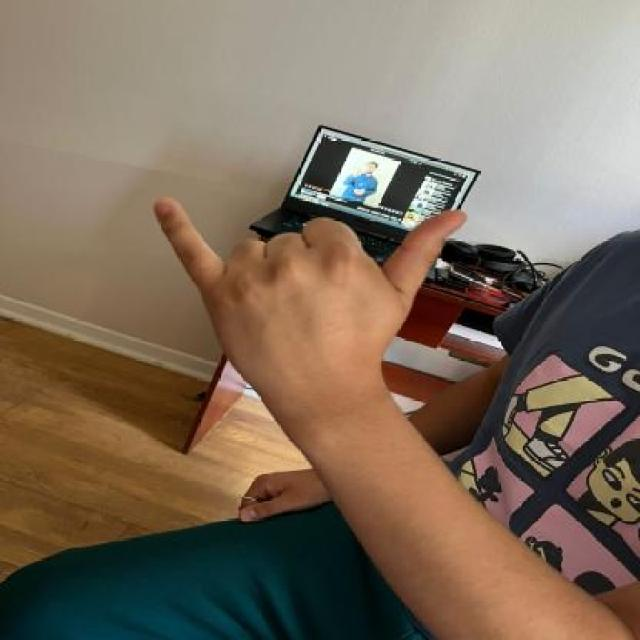Y: (144, 182, 471, 387)
